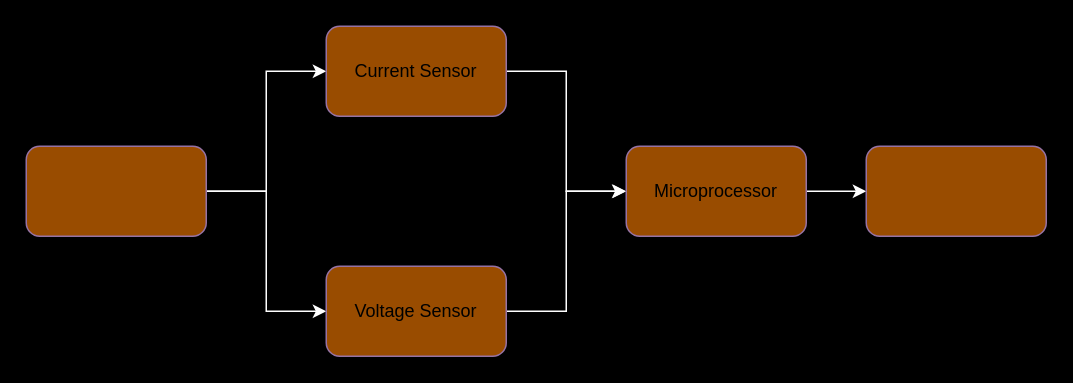
Image size: 1073x383. Some labels were removed from this diagram. Here are the shapes that lost their labels. From the top down, the centre of each, then its label:
At (115,190): "Battery".
At (955,190): "User Interface".
